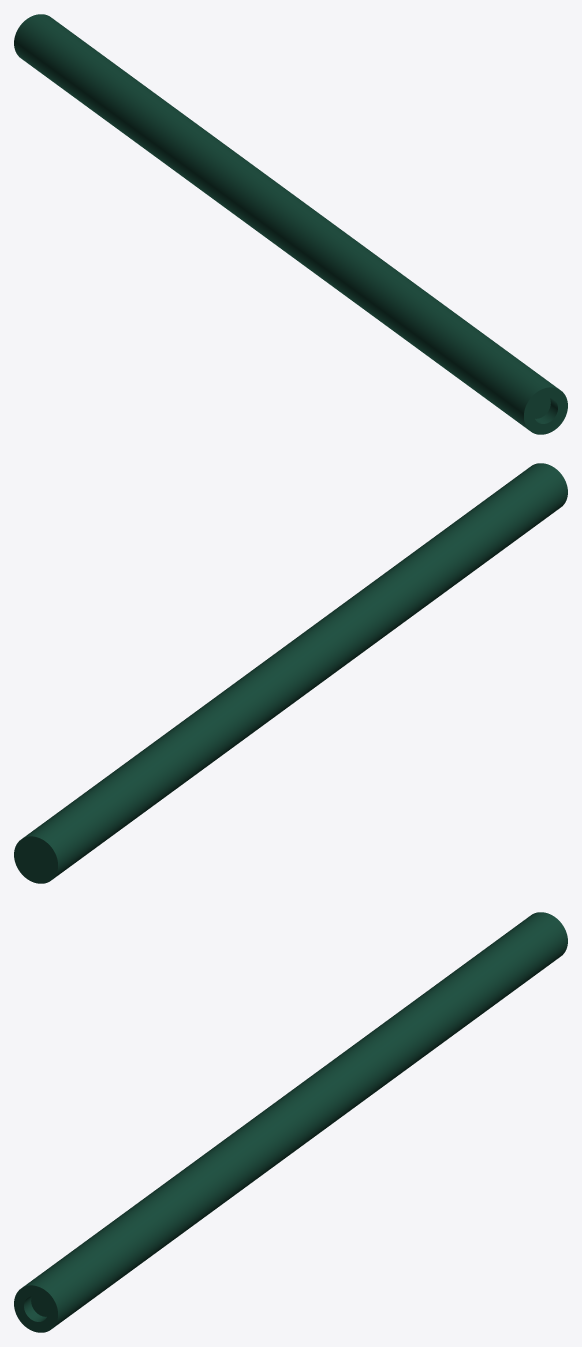
3 views of the same model, one above another, from view 1: azimuth 30°, elevation 25°; view 2: azimuth 150°, elevation 25°; view 3: azimuth 330°, elevation 25° (orthographic).
Visible parts, largest first — view 1: Y01_PineGreen; view 2: Y01_PineGreen; view 3: Y01_PineGreen.
Boxes of the visible parts, box(x1,y1,x2,y2) form: Y01_PineGreen: box(14, 14, 567, 434); Y01_PineGreen: box(14, 463, 567, 883); Y01_PineGreen: box(14, 912, 567, 1332).
Size of the model in its own units: 15 by 15 by 300.
